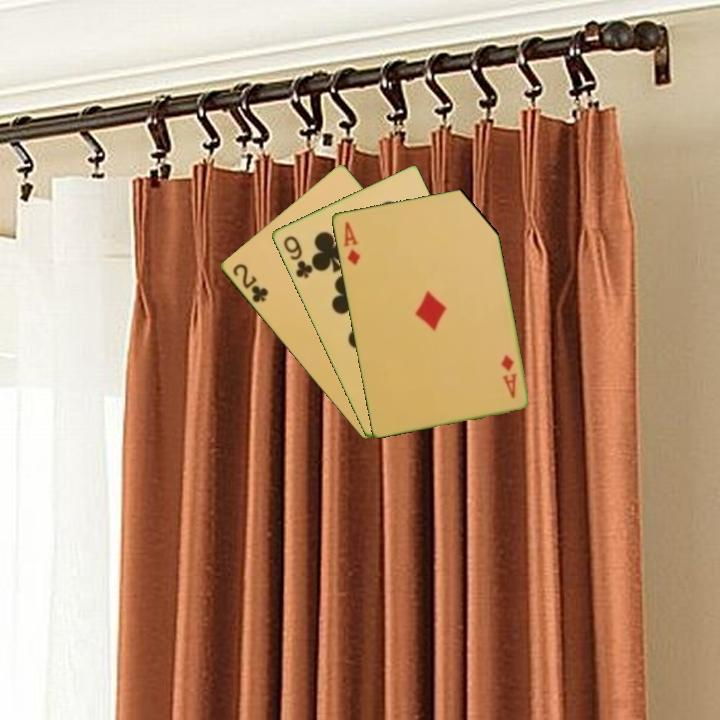2c: (229, 260, 271, 306)
9c: (279, 232, 315, 281)
Ad: (339, 218, 363, 268), (497, 351, 519, 401)
